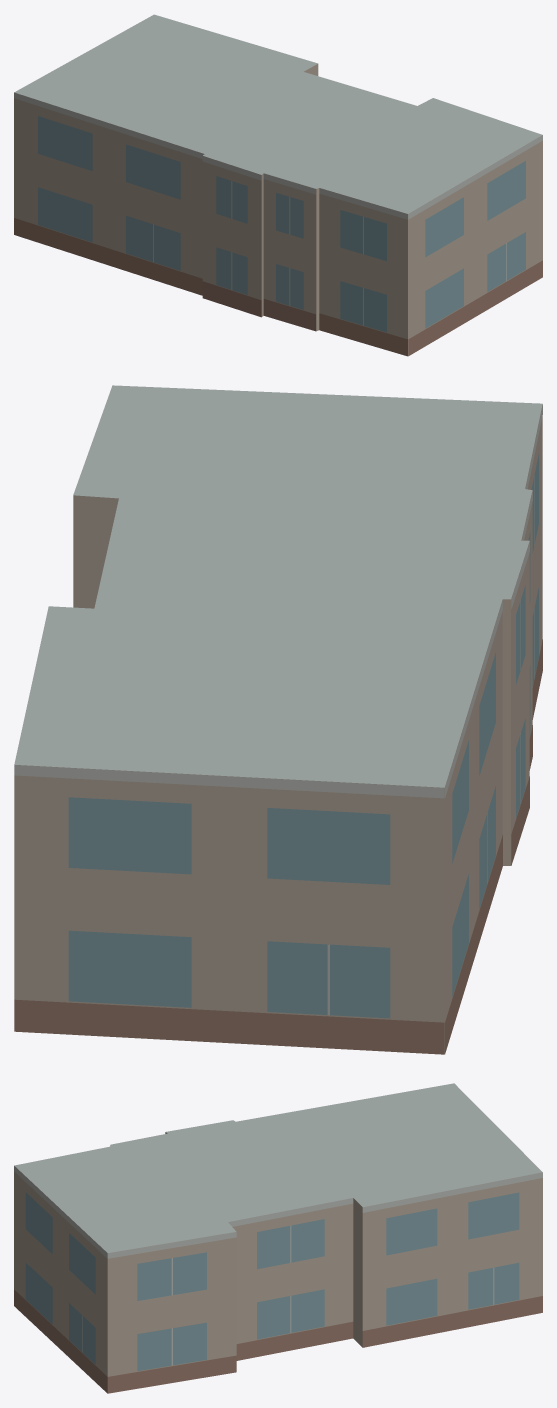
Rendered from survey-upis-32678179.glb.
3 views of the same model, one above another, from view 1: azimuth 30°, elevation 25°; view 2: azimuth 150°, elevation 25°; view 3: azimuth 270°, elevation 25° (orthographic). The views are drawn at different scales.
Visible parts, largest first — view 1: survey-upis-32678179.tmp; view 2: survey-upis-32678179.tmp; view 3: survey-upis-32678179.tmp.
Part boxes in pixels (x1,y1,x2,y2): survey-upis-32678179.tmp: [14, 14, 542, 356]; survey-upis-32678179.tmp: [14, 385, 542, 1054]; survey-upis-32678179.tmp: [14, 1083, 542, 1393].
Bounding box in the file's own units: 15.84 × 6.1 × 20.82.
